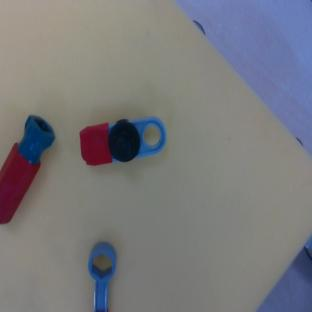part_1_good: (78, 115, 168, 166)
part_2_good: (0, 113, 61, 227)
part_3_good: (88, 242, 116, 311)
